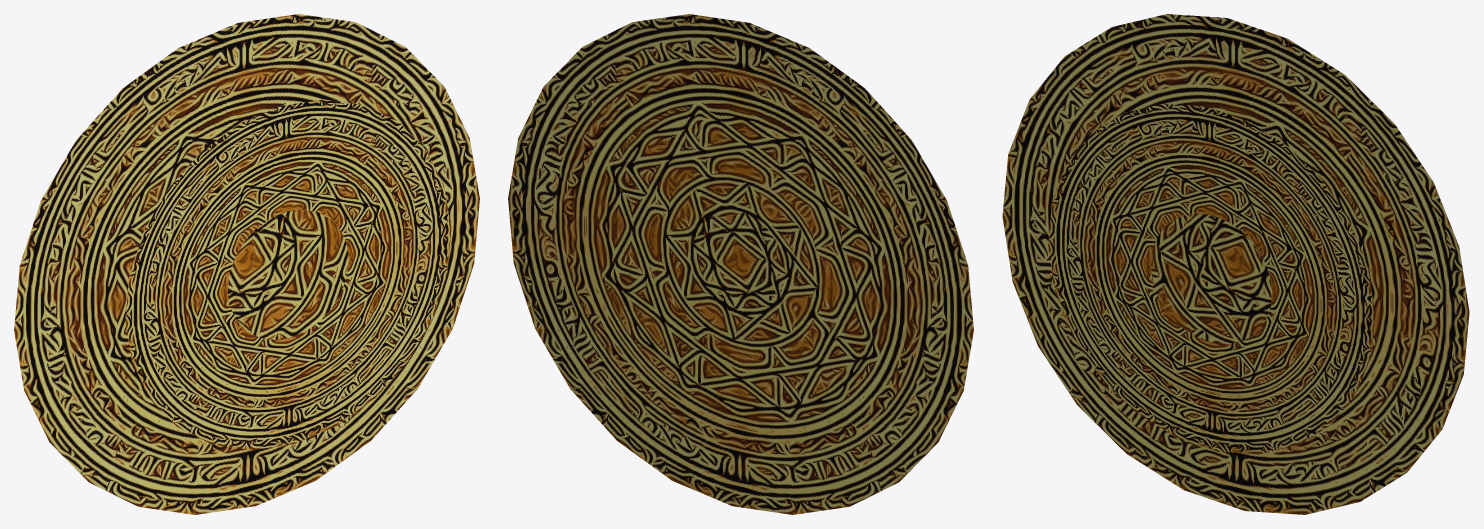
Rendered from Shield Strange.obj.
The picture shows the model from 3 angles, left to right: view 1: azimuth 30°, elevation 25°; view 2: azimuth 150°, elevation 25°; view 3: azimuth 330°, elevation 25°; orthographic projection.
Parts seen in each view (by area): view 1: 3DGeom~9, 3DGeom~8; view 2: 3DGeom~9; view 3: 3DGeom~9, 3DGeom~8.
Part boxes in pixels (<box>): 3DGeom~9: <box>14,14,479,514</box>; 3DGeom~8: <box>125,99,451,449</box>; 3DGeom~9: <box>508,14,973,514</box>; 3DGeom~9: <box>1002,14,1469,514</box>; 3DGeom~8: <box>1048,103,1374,454</box>.
Size of the model in its own units: 30.61 by 30.61 by 3.74.
